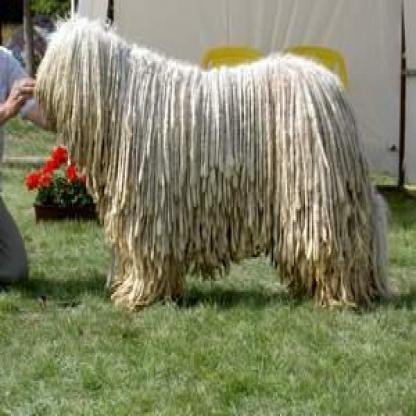komondor: (32, 8, 390, 312)
